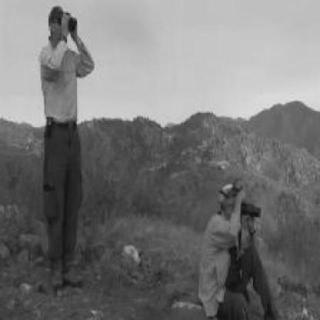other: (194, 205, 244, 301)
